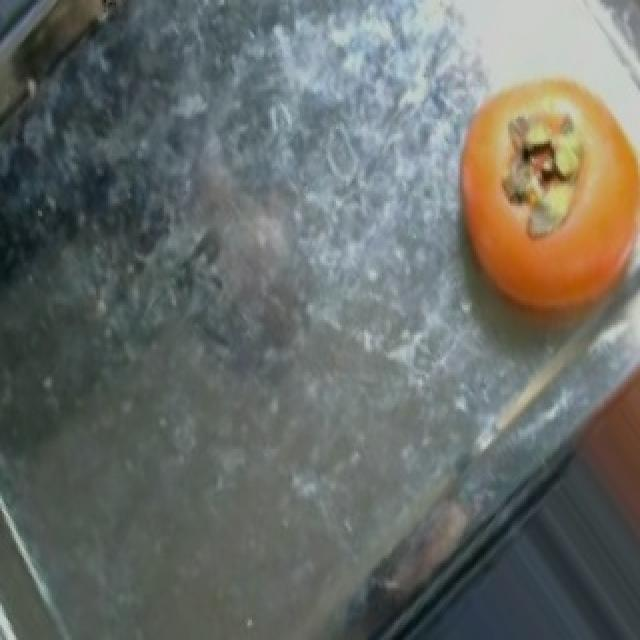Fruit: (436, 50, 636, 367), (560, 335, 640, 568), (0, 0, 140, 84)
